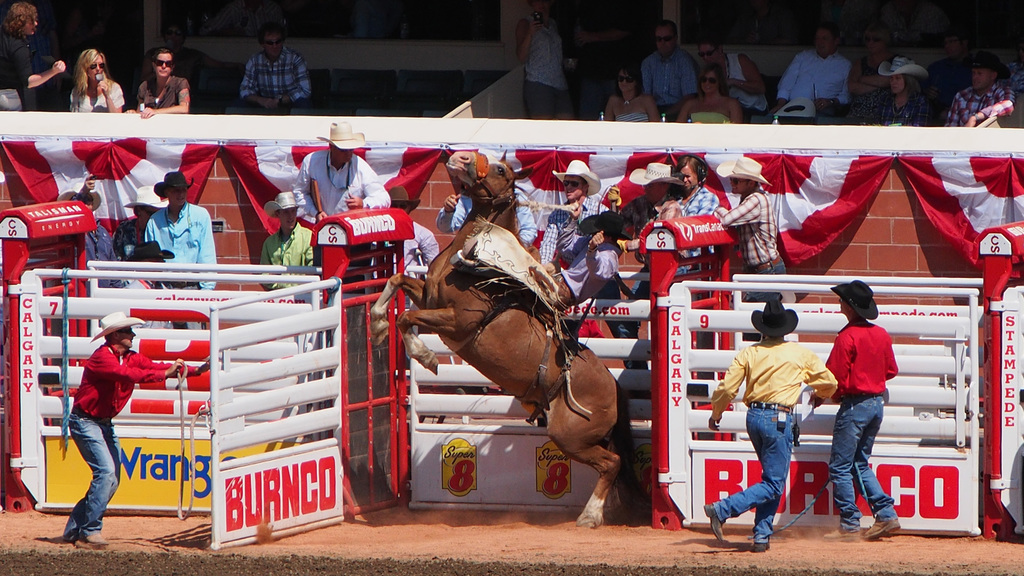horse: (369, 151, 651, 528)
